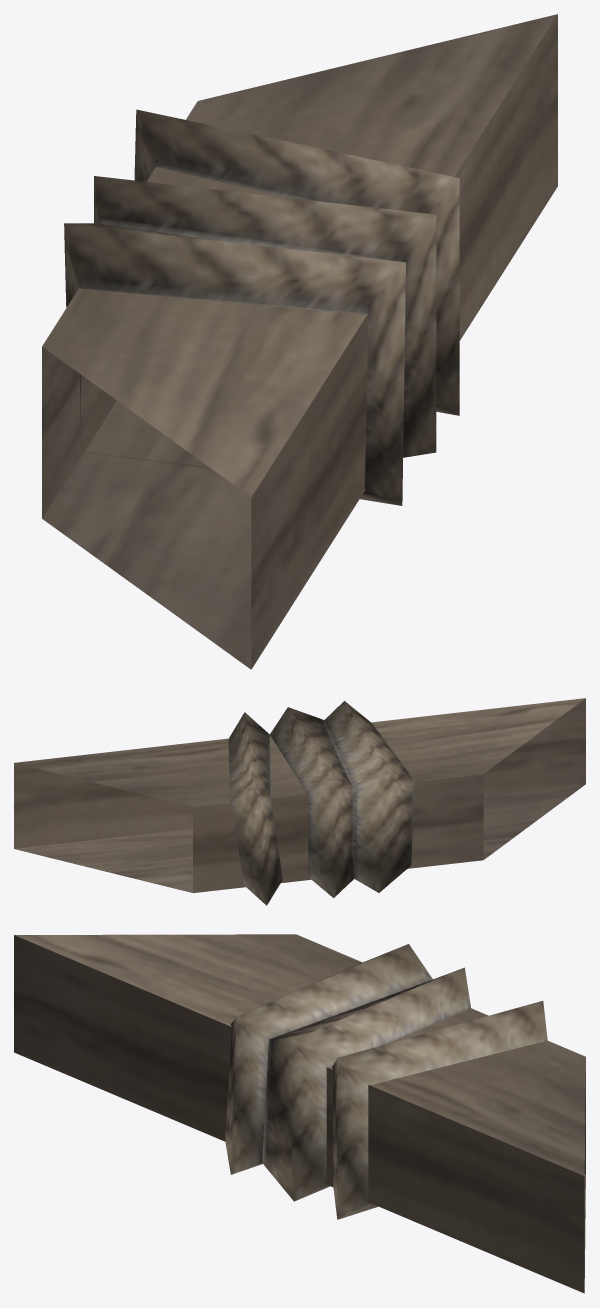
The model's file is Pillar_A_Support_A.fbx.
3 views of the same model, one above another, from view 1: azimuth 30°, elevation 25°; view 2: azimuth 150°, elevation 25°; view 3: azimuth 270°, elevation 25° (orthographic). The views are drawn at different scales.
Parts seen in each view (by area): view 1: Pillar_A_Support_A; view 2: Pillar_A_Support_A; view 3: Pillar_A_Support_A.
Boxes of the visible parts, x1=… form: Pillar_A_Support_A: x1=42, y1=14, x2=557, y2=669; Pillar_A_Support_A: x1=14, y1=698, x2=585, y2=905; Pillar_A_Support_A: x1=14, y1=934, x2=585, y2=1293.
Bounding box in the file's own units: 0.7167 × 0.2239 × 0.7162.
